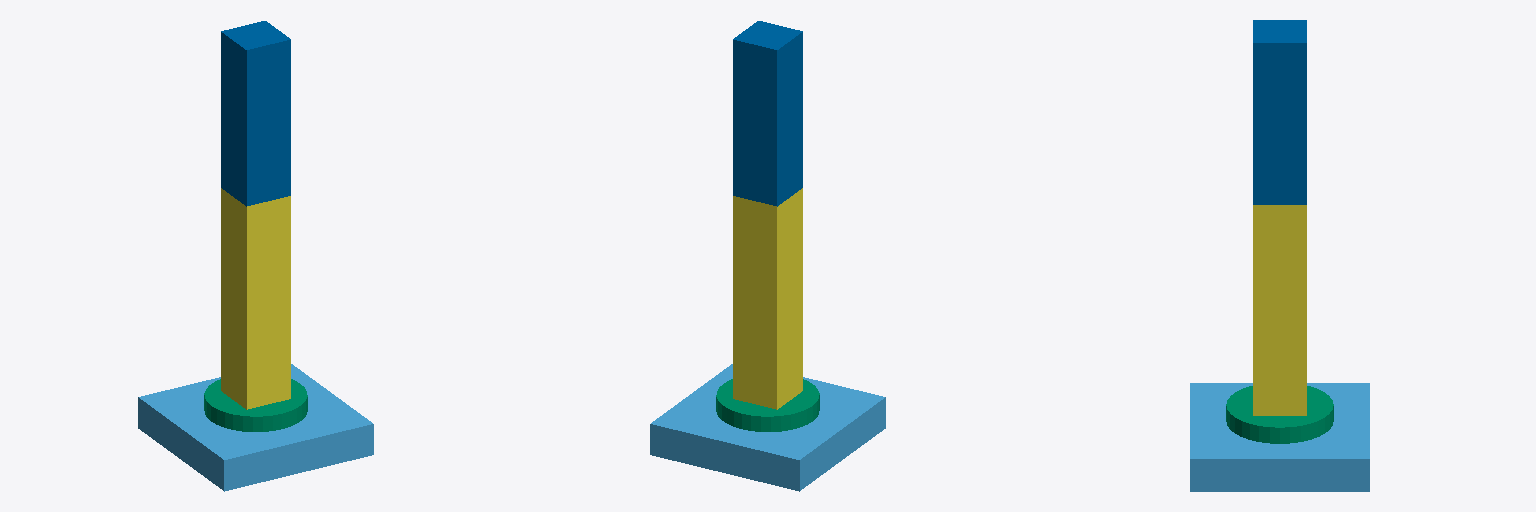
URDF robot description (3dof):
<?xml version="1.0"?>
<robot name="3dof">

  <link name="world"/>
  <link name="base_link">
    <visual>
      <origin xyz="0 0 0.01"/>
      <geometry>
        <box size="0.1 0.1 0.02"/>  
      </geometry>
    </visual>
    <inertial>
      <mass value="0.1"/>
      <inertia ixx="8.6e-05" ixy="0.0" ixz="0.0" iyy="8.6e-05" iyz="0.0" izz="1.6e-04"/>
    </inertial>
  </link>

  <link name="link_1">
    <visual>
      <origin xyz="0.0 0.0 0.005"/>
      <geometry>
        <cylinder radius="0.03" length="0.01"/>
      </geometry>  
    </visual>
    <inertial>
      <mass value="0.06"/>
      <inertia ixx="1.4e-05" ixy="0.0" ixz="0.0" iyy="1.4e-05" iyz="0.0" izz="2.7e-05"/>
    </inertial>
  </link>

  <link name="link_2">
    <visual>
      <origin xyz="0.0 0.0 0.065"/>
      <geometry>
        <box size="0.03 0.03 0.13"/>
      </geometry>
    </visual>
    <inertial>
      <mass value="0.05"/>
      <inertia ixx="7.41e-05" ixy="0.0" ixz="0.0" iyy="7.41e-05" iyz="0.0" izz="7.5e-06"/>
    </inertial>
  </link>

  <link name="link_3">
    <visual>
      <origin xyz="0.0 0.0 0.05"/>
      <geometry>
        <box size="0.03 0.03 0.10"/>
      </geometry>
    </visual>
    <inertial>
      <mass value="0.04"/>
      <inertia ixx="3.6e-05" ixy="0.0" ixz="0.0" iyy="3.6e-05" iyz="0.0" izz="6e-06"/>
    </inertial>
  </link>

  <joint name="world_to_base" type="fixed">
  <parent link="world"/>
  <child link="base_link"/>
  
  </joint>
  <joint name="base_to_link_1" type="revolute">
    <origin xyz="0.0 0.0 0.02"/>
    <parent link="base_link"/>
    <child link="link_1"/>
    <limit lower="-3.14" upper="3.14" effort="100" velocity="100"/>
    <axis xyz="0.0 0.0 1"/>
  </joint>

  <joint name="link_1_to_link_2" type="revolute">
    <origin xyz="0.0 0.0 0.01"/>
    <parent link="link_1"/>
    <child link="link_2"/>
    <limit lower="-1.57" upper="1.57" effort="100" velocity="100"/>
    <axis xyz="1 0.0 0.0"/>
  </joint>

  <joint name="link_2_to_link_3" type="revolute">
    <origin xyz="0.0 0.0 0.13"/>
    <parent link="link_2"/>
    <child link="link_3"/>
    <limit lower="-1.57" upper="1.57" effort="100" velocity="100"/>
    <axis xyz="1 0.0 0.0"/>
  </joint>

  <transmission name="trans1">
    <type>transmission_interface/SimpleTransmission</type>
    <joint name="base_to_link_1">
        <hardwareInterface>hardware_interface/EffortJointInterface</hardwareInterface>
    </joint>
    <actuator name="motor1">
        <hardwareInterface>hardware_interface/EffortJointInterface</hardwareInterface>
        <mechanicalReduction>1</mechanicalReduction>
    </actuator>
  </transmission>

  <transmission name="trans2">
    <type>transmission_interface/SimpleTransmission</type>
    <joint name="link_1_to_link_2">
        <hardwareInterface>hardware_interface/EffortJointInterface</hardwareInterface>
    </joint>
    <actuator name="motor2">
        <hardwareInterface>hardware_interface/EffortJointInterface</hardwareInterface>
        <mechanicalReduction>1</mechanicalReduction>
    </actuator>
  </transmission>

  <transmission name="trans3">
    <type>transmission_interface/SimpleTransmission</type>
    <joint name="link_2_to_link_3">
        <hardwareInterface>hardware_interface/EffortJointInterface</hardwareInterface>
    </joint>
    <actuator name="motor3">
        <hardwareInterface>hardware_interface/EffortJointInterface</hardwareInterface>
        <mechanicalReduction>1</mechanicalReduction>
    </actuator>
  </transmission>

  <gazebo>
      <plugin name="gazebo_ros_control" filename="libgazebo_ros_control.so">
          <robotNamespace>/3dof</robotNamespace>
      </plugin>
  </gazebo>

  <gazebo reference="base_link">
        <mu1>0.01</mu1>
        <mu2>0.01</mu2>
        <material>Gazebo/Gray</material>
        <!-- <selfCollide>true</selfCollide> -->
        <gravity>true</gravity>
        <minDepth>0.01</minDepth>
    </gazebo>

    <gazebo reference="link_1">
        <mu1>0.01</mu1>
        <mu2>0.01</mu2>
        <material>Gazebo/White</material>
        <!-- <selfCollide>true</selfCollide> -->
        <gravity>true</gravity>
        <minDepth>0.01</minDepth>
    </gazebo>

    <gazebo reference="link_2">
        <mu1>0.01</mu1>
        <mu2>0.01</mu2>
        <material>Gazebo/Gray</material>
        <!-- <selfCollide>true</selfCollide> -->
        <gravity>true</gravity>
        <minDepth>0.01</minDepth>
    </gazebo>

    <gazebo reference="link_3">
        <mu1>0.01</mu1>
        <mu2>0.01</mu2>
        <material>Gazebo/White</material>
        <!-- <selfCollide>true</selfCollide> -->
        <gravity>true</gravity>
        <minDepth>0.01</minDepth>
    </gazebo>

</robot>

--- What the picture shows (computed from the rendered views, not written in the file) ---
The picture shows the robot from 3 angles, left to right: view 1: azimuth 30°, elevation 25°; view 2: azimuth 150°, elevation 25°; view 3: azimuth 270°, elevation 25°; orthographic projection.
Model 3dof with 5 links and 4 joints (3 revolute, 1 fixed), rooted at world, posed all joints at 0.
Visible links, largest first — view 1: base_link, link_2, link_3, link_1; view 2: base_link, link_2, link_3, link_1; view 3: base_link, link_2, link_3, link_1.
Boxes of the visible links, <box> form: base_link: <box>138,364,373,491</box>; link_2: <box>221,188,290,409</box>; link_3: <box>221,21,290,206</box>; link_1: <box>204,379,307,431</box>; base_link: <box>650,364,885,491</box>; link_2: <box>733,188,802,409</box>; link_3: <box>733,21,802,206</box>; link_1: <box>716,379,819,431</box>; base_link: <box>1190,383,1369,491</box>; link_2: <box>1253,205,1306,415</box>; link_3: <box>1253,20,1306,204</box>; link_1: <box>1226,386,1333,443</box>.
Size in the robot's own frame: 0.1 by 0.1 by 0.26 metres.
Geometry: primitives only (box / cylinder / sphere), no mesh files.
